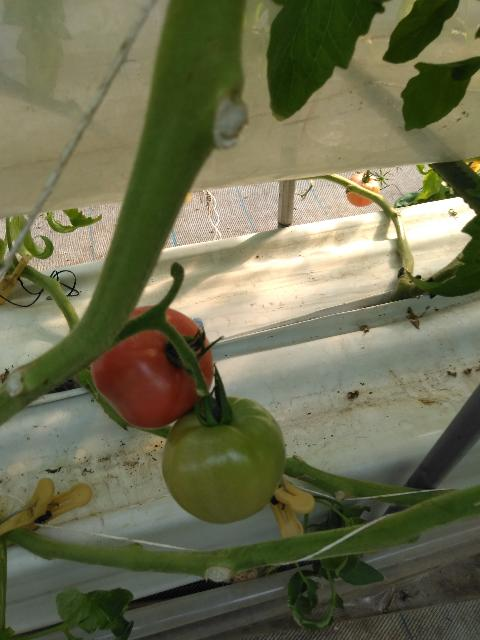b_fully_ripened: (91, 306, 214, 430)
b_green: (162, 397, 286, 525)
b_half_ripened: (347, 173, 380, 207)
